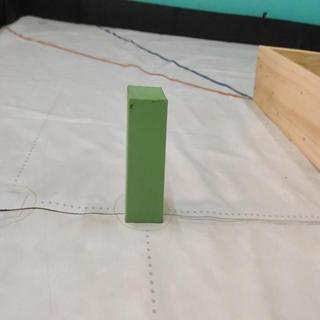greenbox: (125, 83, 168, 224)
